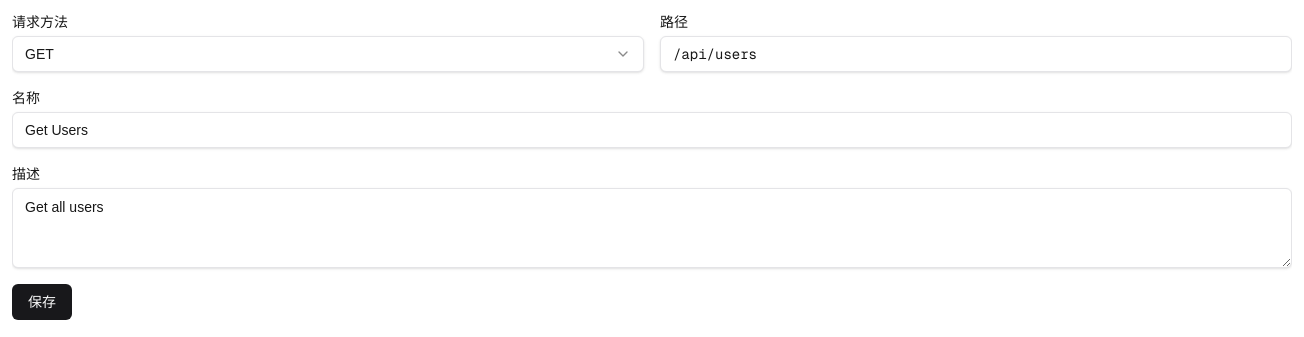
Test case: BasicInfoPanel › renders HTTP method options in select
Click the dropdown at (39, 54), box [12, 36, 644, 72]
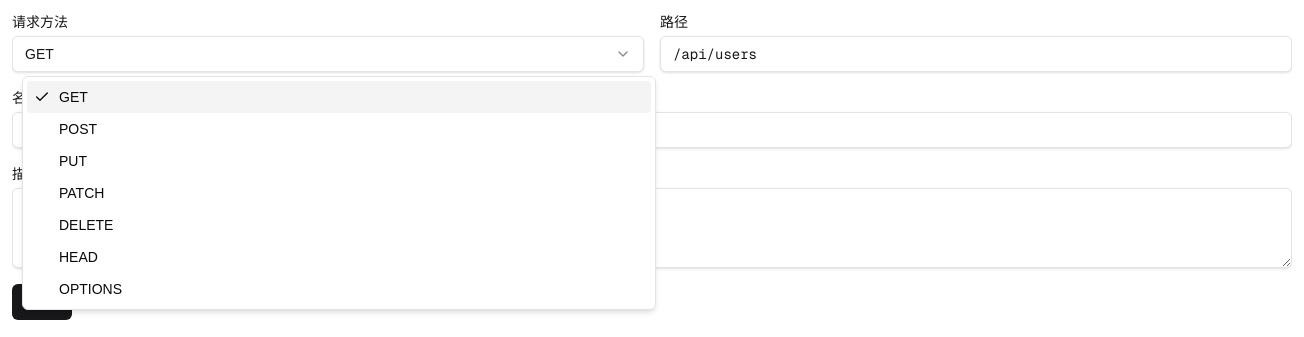
expect the text "POST" is shown: met, box [59, 119, 97, 139]
expect the text "PUT" is shown: met, box [59, 151, 87, 171]
expect the text "PATCH" is shown: met, box [59, 183, 104, 203]
